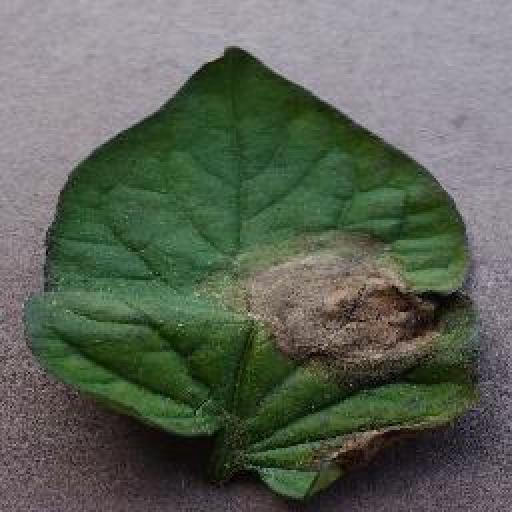disease_tomato: (21, 42, 484, 510)
